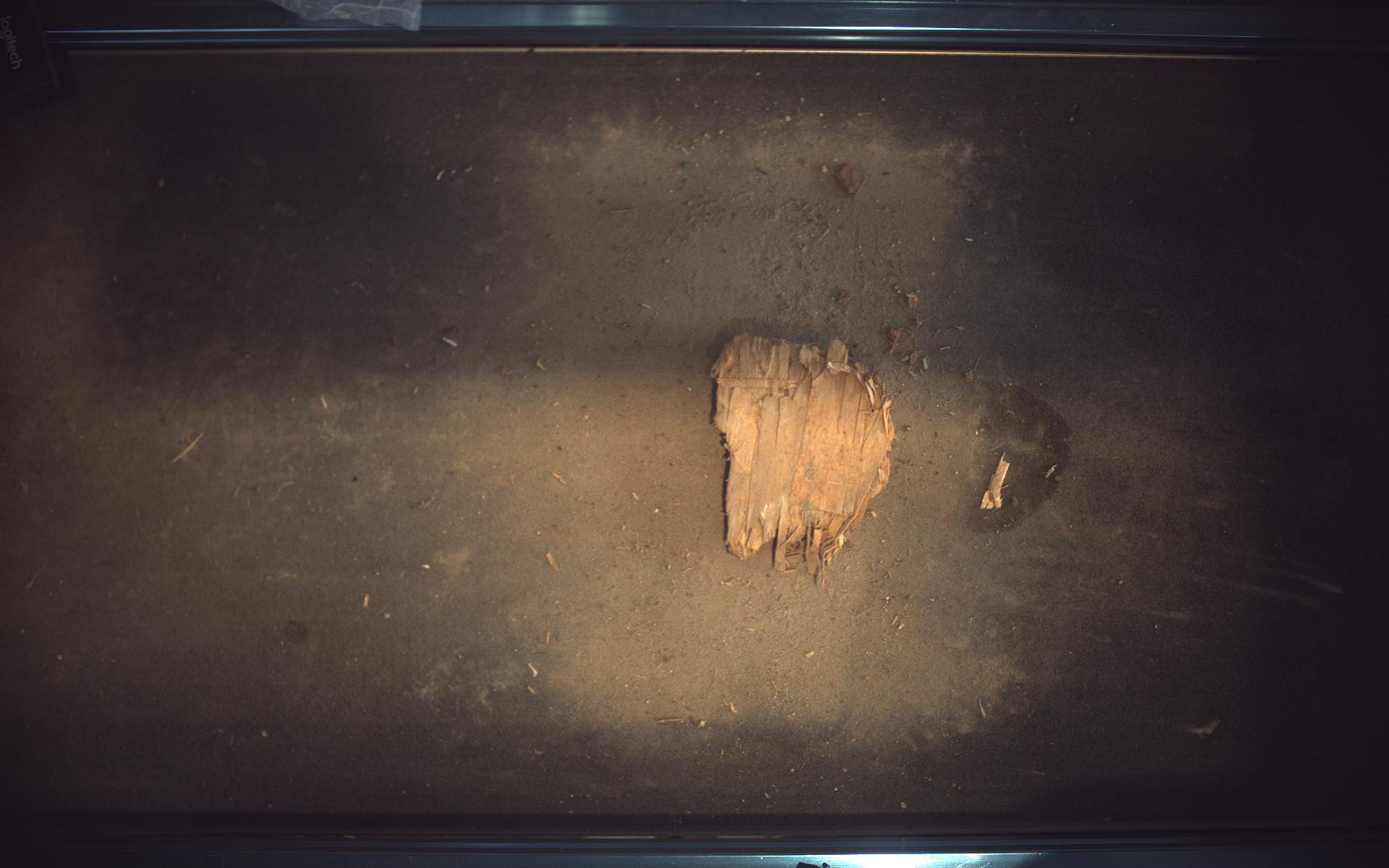wood: (713, 335, 896, 582)
